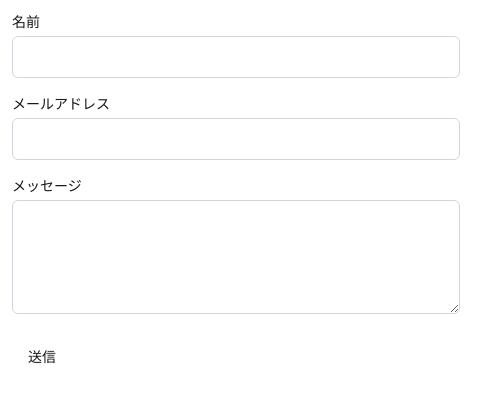
Test: ContactForm コンポーネント › 正しい値でフォームが送信される
In the field labelled "名前": (236, 57) 12,36 -> 460,78, type "テストユーザー"
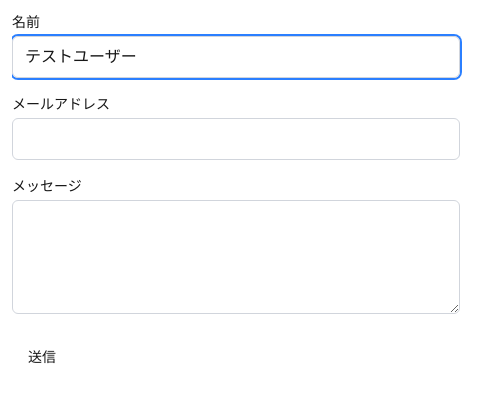
In the field labelled "メールアドレス": (236, 139) 12,118 -> 460,160, type "test@example.com"
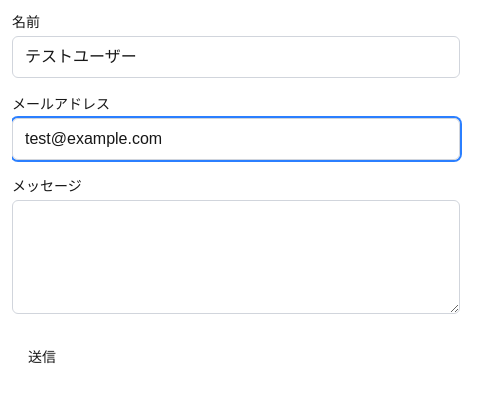
In the text box labelled "メッセージ": (236, 257) 12,200 -> 460,314, type "これはテストメッセージです"
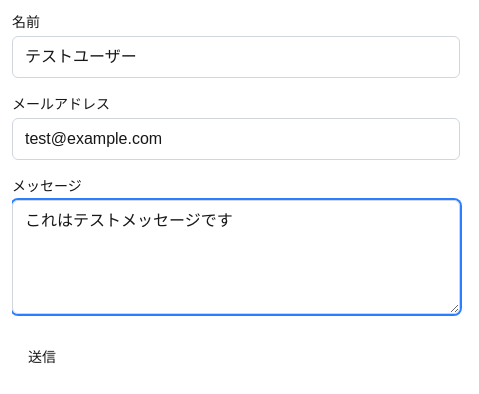
Click the button "送信": (42, 357) 12,337 -> 72,377
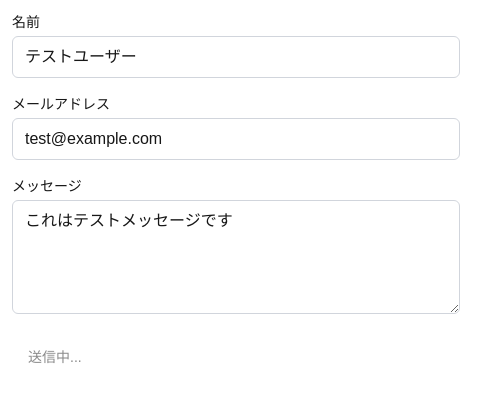
expect the button "送信中..." is shown: met, box 12,337 -> 98,377
